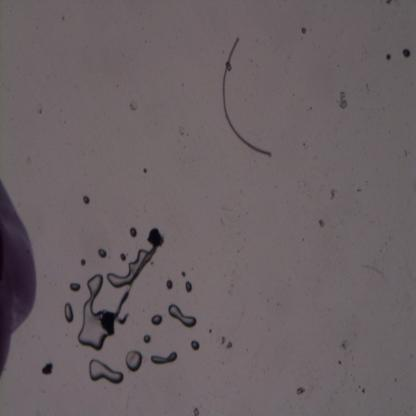Air bubble: (78, 273, 114, 352), (107, 248, 147, 287), (89, 358, 124, 386), (168, 304, 198, 329), (125, 347, 142, 375), (151, 352, 178, 365), (63, 302, 74, 324), (97, 245, 109, 260), (150, 314, 164, 326), (69, 280, 81, 294), (184, 280, 194, 295), (190, 339, 201, 352), (164, 278, 174, 292), (143, 332, 151, 346), (82, 194, 91, 206), (129, 227, 138, 238), (119, 252, 128, 263), (80, 257, 87, 266)
Background material: (362, 262, 386, 279), (40, 360, 54, 378), (337, 90, 349, 110), (219, 335, 233, 351), (128, 100, 140, 112), (295, 385, 307, 396), (357, 382, 367, 394), (402, 47, 412, 59), (35, 101, 43, 115), (318, 218, 327, 230), (329, 187, 337, 200), (342, 340, 350, 352), (192, 405, 200, 415), (386, 52, 392, 63), (300, 28, 307, 36), (208, 328, 212, 336), (142, 168, 147, 173)
Cellulose filter fibre: (100, 232, 166, 334)
Microfibre: (220, 36, 272, 159)
Pen: (0, 171, 39, 380)
